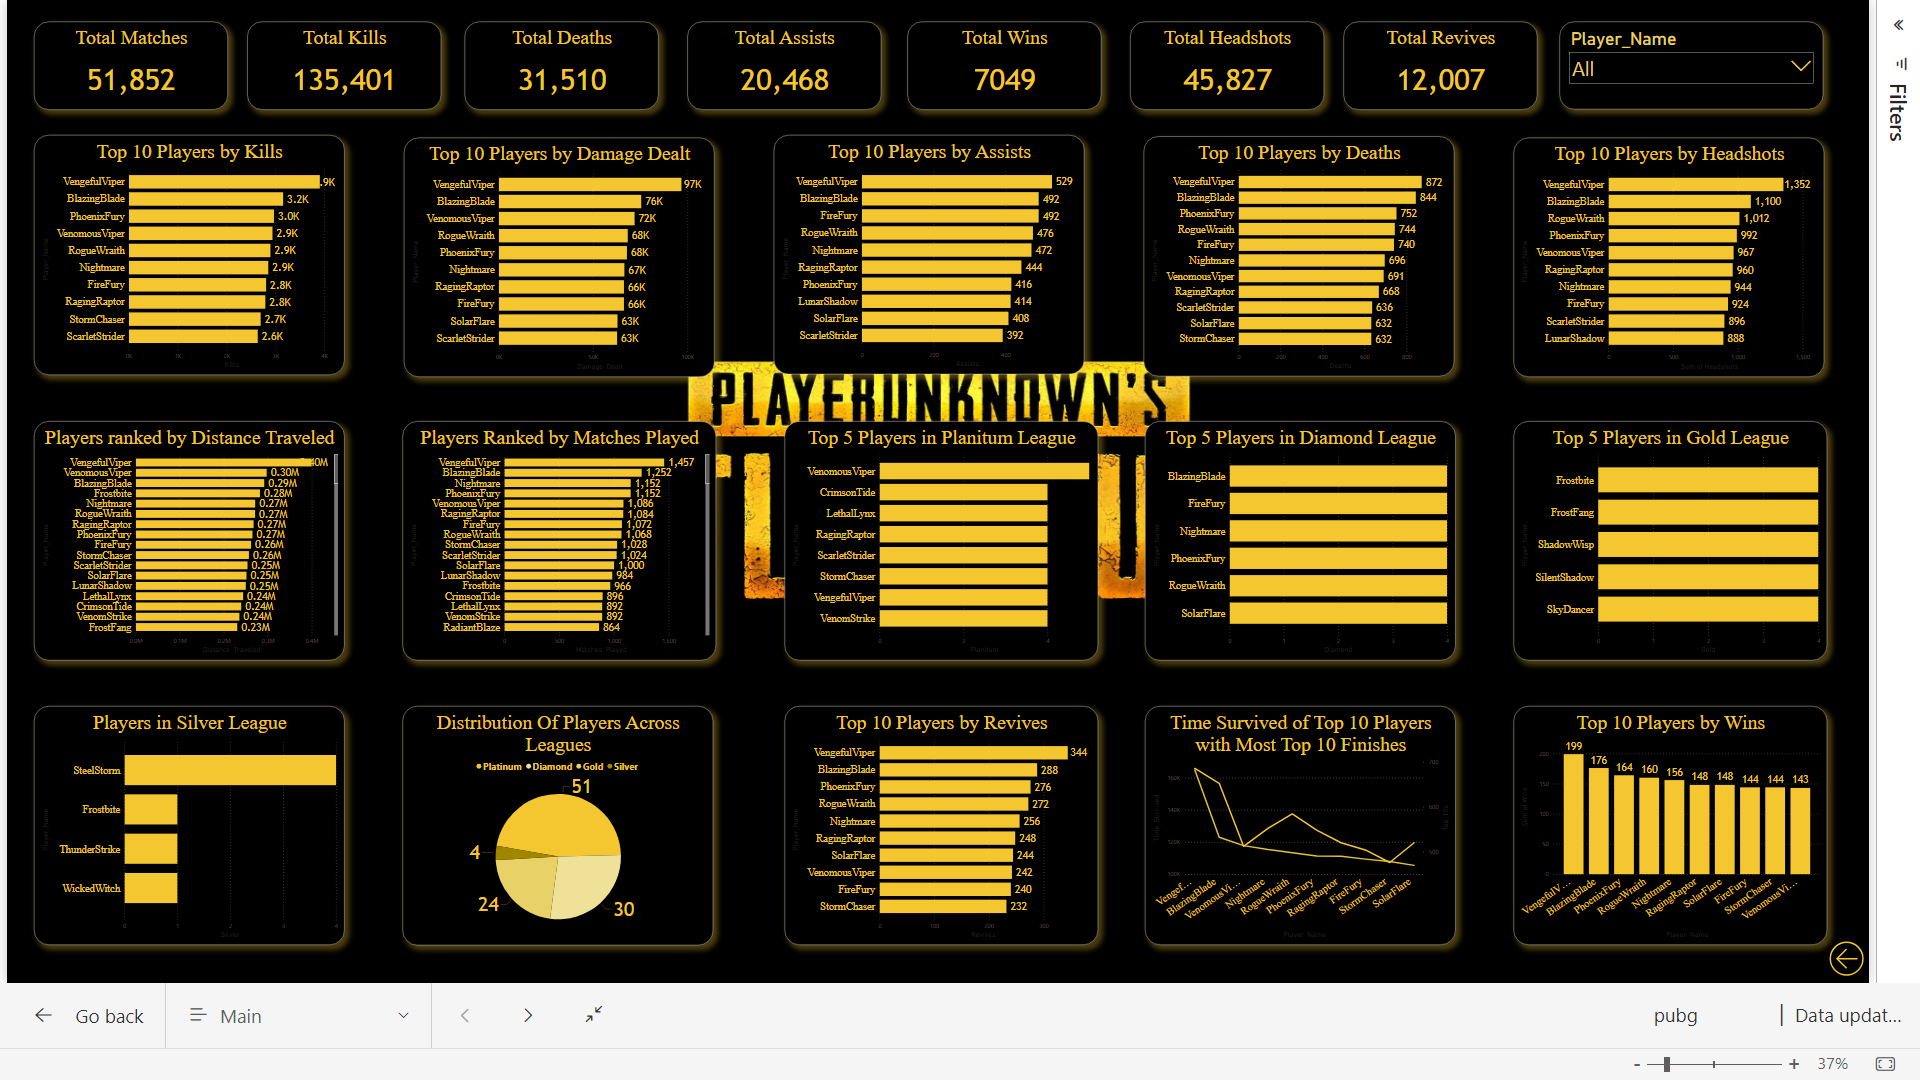

The dashboard page shown, as its layout file describes it:
{"tool":"powerbi","page":{"name":"Main","canvas":[3770,1990],"ordinal":0},"visuals":[{"type":"card","title":"Total Matches","fields":{"Values":["Sum(Pubg_Stats.Matches_Played)"]},"box":[53.5,44.6,392.5,178.4],"z":0},{"type":"card","title":"Total Kills","fields":{"Values":["Sum(Pubg_Stats.Kills)"]},"box":[486.1,44.6,392.5,178.4],"z":1000},{"type":"card","title":"Total Deaths","fields":{"Values":["Sum(Pubg_Stats.Deaths)"]},"box":[927.6,44.6,392.5,178.4],"z":2000},{"type":"card","title":"Total Assists","fields":{"Values":["Sum(Pubg_Stats.Assists)"]},"box":[1378.1,44.6,392.5,178.4],"z":3000},{"type":"card","title":"Total Wins","fields":{"Values":["Sum(Pubg_Stats.Wins)"]},"box":[1824.1,44.6,392.5,178.4],"z":4000},{"type":"card","title":"Total Headshots","fields":{"Values":["Sum(Pubg_Stats.Headshots)"]},"box":[2274.5,44.6,392.5,178.4],"z":5000},{"type":"card","title":"Total Revives","fields":{"Values":["Sum(Pubg_Stats.Revives)"]},"box":[2707.1,44.6,392.5,178.4],"z":6000},{"type":"clusteredBarChart","title":"Top 10 Players by Kills","fields":{"Category":["Pubg_Stats.Player_Name"],"Y":["Sum(Pubg_Stats.Kills)"]},"box":[53.5,272,628.8,486.1],"z":7000},{"type":"clusteredBarChart","title":"Top 10 Players by Damage Dealt","fields":{"Category":["Pubg_Stats.Player_Name"],"Y":["Sum(Pubg_Stats.Damage_Dealt)"]},"box":[802.6,278.3,629,484.2],"z":8000},{"type":"clusteredBarChart","title":"Top 10 Players by Assists","fields":{"Category":["Pubg_Stats.Player_Name"],"Y":["Sum(Pubg_Stats.Assists)"]},"box":[1551.8,272.7,629,484.2],"z":9000},{"type":"clusteredBarChart","title":"Top 10 Players by Deaths","fields":{"Category":["Pubg_Stats.Player_Name"],"Y":["Sum(Pubg_Stats.Deaths)"]},"box":[2301.1,276.5,628.8,486.1],"z":10000},{"type":"clusteredBarChart","title":"Top 10 Players by Headshots","fields":{"Category":["Pubg_Stats.Player_Name"],"Y":["Sum(Pubg_Stats.Headshots)"]},"box":[3050.2,278.3,629,484.2],"z":11000},{"type":"clusteredBarChart","title":"Players ranked by Distance Traveled","fields":{"Category":["Pubg_Stats.Player_Name"],"Y":["Sum(Pubg_Stats.Distance_Traveled)"]},"box":[55.7,851.6,629,484.2],"z":12000},{"type":"clusteredBarChart","title":"Players Ranked by  Matches Played","fields":{"Category":["Pubg_Stats.Player_Name"],"Y":["Sum(Pubg_Stats.Matches_Played)"]},"box":[801.5,851.6,634.5,484.2],"z":13000},{"type":"pieChart","title":"Distribution Of Players Across Leagues","fields":{"Category":["Pubg_Stats.Rank"],"Y":["Count(Pubg_Stats.Player_Name)"]},"box":[801.5,1430.5,629,484.2],"z":14000},{"type":"clusteredBarChart","title":"Top 5 Players in Gold League","fields":{"Category":["Pubg_Stats.Player_Name"],"Y":["Pubg_Stats.Gold"]},"box":[3050.2,851.6,634.5,484.2],"z":15000},{"type":"clusteredBarChart","title":"Top 5 Players in Planitum League","fields":{"Category":["Pubg_Stats.Player_Name"],"Y":["Pubg_Stats.Planitum"]},"box":[1575.2,851.6,634.5,484.2],"z":16000},{"type":"clusteredBarChart","title":"Top 5 Players in Diamond League","fields":{"Category":["Pubg_Stats.Player_Name"],"Y":["Pubg_Stats.Diamond"]},"box":[2304.3,851.6,629,484.2],"z":17000},{"type":"clusteredBarChart","title":"Players in Silver League","fields":{"Category":["Pubg_Stats.Player_Name"],"Y":["Pubg_Stats.Silver"]},"box":[56,1430,629,484],"z":18000},{"type":"clusteredBarChart","title":"Top 10 Players by Revives","fields":{"Category":["Pubg_Stats.Player_Name"],"Y":["Sum(Pubg_Stats.Revives)"]},"box":[1575,1430,635,484],"z":19000},{"type":"lineChart","title":"Time Survived of Top 10 Players with Most Top 10 Finishes","fields":{"Category":["Pubg_Stats.Player_Name"],"Y":["Sum(Pubg_Stats.Time_Survived)"],"Y2":["Sum(Pubg_Stats.Top_10s)"]},"box":[2304,1430,629,484],"z":20000},{"type":"clusteredColumnChart","title":"Top 10 Players by Wins","fields":{"Category":["Pubg_Stats.Player_Name"],"Y":["Sum(Pubg_Stats.Wins)"]},"box":[3050,1430,635,484],"z":21000},{"type":"slicer","fields":{"Values":["Pubg_Stats.Player_Name"]},"box":[3144.8,44.5,534.3,178.1],"z":22000},{"type":"actionButton","box":[3682.1,1890.7,86.3,99.3],"z":22001}]}

Visuals, with their boxes on the page's 3770x1990 design canvas (x1, y1, x2, y2). These are canvas units, not pixel positions in the 1920x1080 screenshot, which may show the page scaled, cropped or inside an application window:
"Total Matches" card: [54, 45, 446, 223]
"Total Kills" card: [486, 45, 879, 223]
"Total Deaths" card: [928, 45, 1320, 223]
"Total Assists" card: [1378, 45, 1771, 223]
"Total Wins" card: [1824, 45, 2217, 223]
"Total Headshots" card: [2274, 45, 2667, 223]
"Total Revives" card: [2707, 45, 3100, 223]
"Top 10 Players by Kills" clusteredBarChart: [54, 272, 682, 758]
"Top 10 Players by Damage Dealt" clusteredBarChart: [803, 278, 1432, 762]
"Top 10 Players by Assists" clusteredBarChart: [1552, 273, 2181, 757]
"Top 10 Players by Deaths" clusteredBarChart: [2301, 276, 2930, 763]
"Top 10 Players by Headshots" clusteredBarChart: [3050, 278, 3679, 762]
"Players ranked by Distance Traveled" clusteredBarChart: [56, 852, 685, 1336]
"Players Ranked by  Matches Played" clusteredBarChart: [802, 852, 1436, 1336]
"Distribution Of Players Across Leagues" pieChart: [802, 1430, 1430, 1915]
"Top 5 Players in Gold League" clusteredBarChart: [3050, 852, 3685, 1336]
"Top 5 Players in Planitum League" clusteredBarChart: [1575, 852, 2210, 1336]
"Top 5 Players in Diamond League" clusteredBarChart: [2304, 852, 2933, 1336]
"Players in Silver League" clusteredBarChart: [56, 1430, 685, 1914]
"Top 10 Players by Revives" clusteredBarChart: [1575, 1430, 2210, 1914]
"Time Survived of Top 10 Players with Most Top 10 Finishes" lineChart: [2304, 1430, 2933, 1914]
"Top 10 Players by Wins" clusteredColumnChart: [3050, 1430, 3685, 1914]
slicer - Pubg_Stats.Player_Name: [3145, 44, 3679, 223]
actionButton: [3682, 1891, 3768, 1990]
